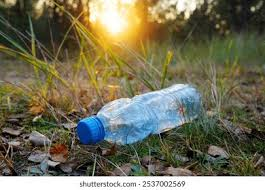Botella: (77, 84, 201, 143)
